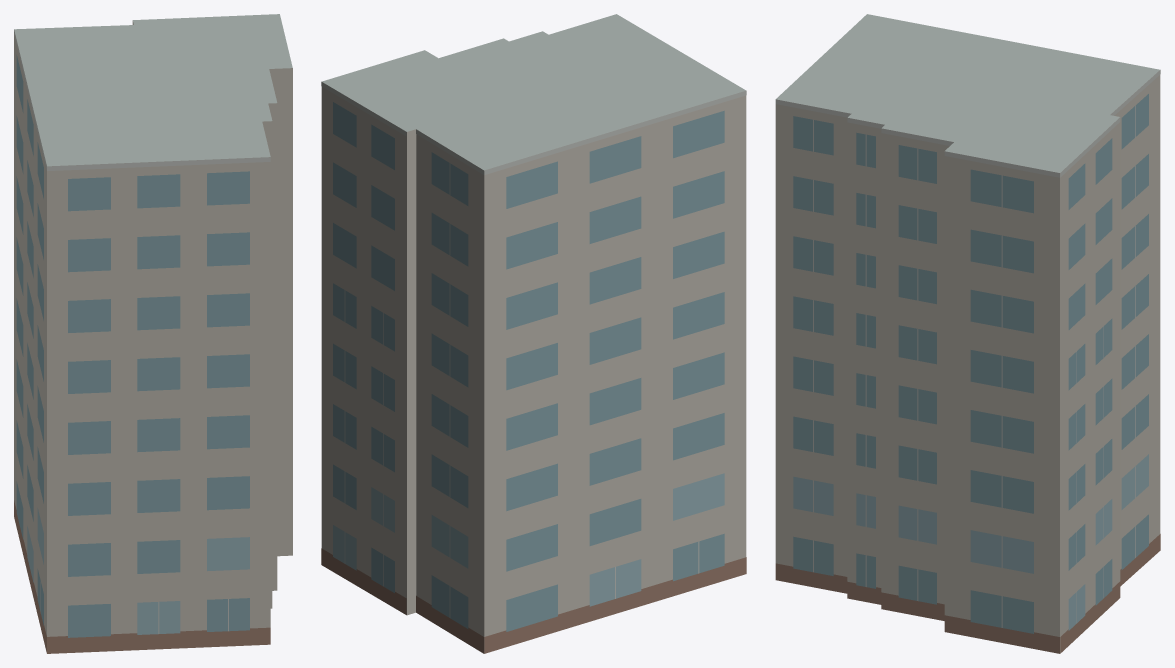
File: survey-upis-32656316.glb
The picture shows the model from 3 angles, left to right: view 1: azimuth 30°, elevation 25°; view 2: azimuth 150°, elevation 25°; view 3: azimuth 270°, elevation 25°; orthographic projection.
Visible parts, largest first — view 1: survey-upis-32656316.tmp; view 2: survey-upis-32656316.tmp; view 3: survey-upis-32656316.tmp.
Boxes of the visible parts, x1,y1,x2,y2 form: survey-upis-32656316.tmp: (14, 14, 292, 653); survey-upis-32656316.tmp: (321, 14, 746, 653); survey-upis-32656316.tmp: (775, 14, 1160, 653).
Size of the model in its own units: 17.54 by 24.7 by 17.93.
